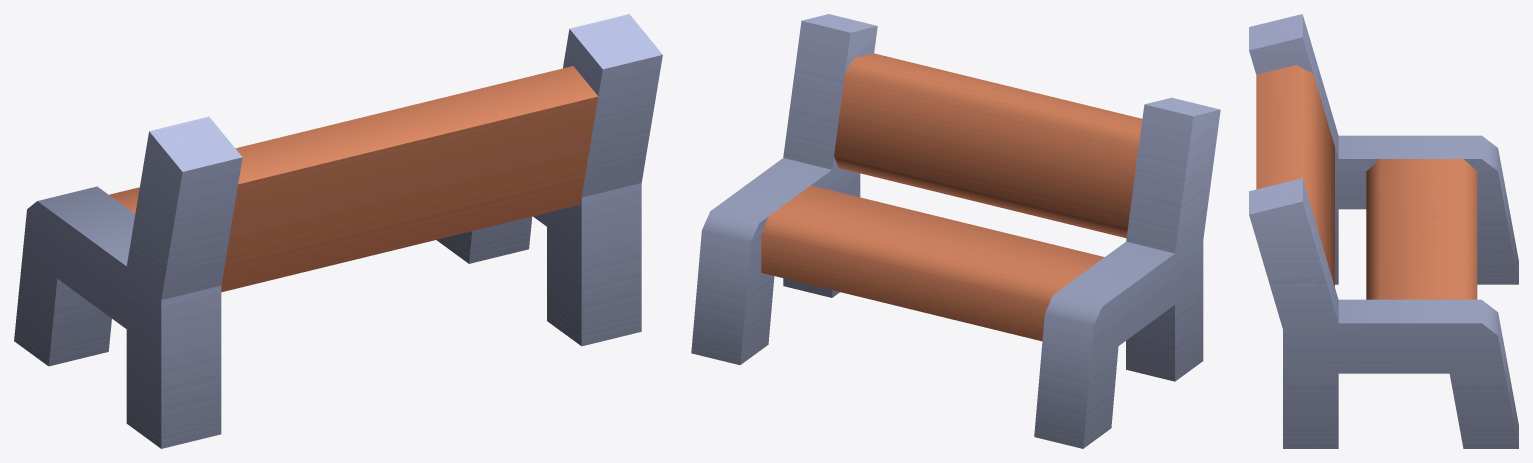
Rendered from bench.glb.
3 renders of one model, left to right at view 1: azimuth 30°, elevation 25°; view 2: azimuth 150°, elevation 25°; view 3: azimuth 270°, elevation 25°, orthographic. The views are drawn at different scales.
Visible parts, largest first — view 1: bench; view 2: bench; view 3: bench.
Boxes of the visible parts, bbox=[...] form: bench: bbox=[14, 14, 662, 448]; bench: bbox=[691, 14, 1220, 448]; bench: bbox=[1249, 14, 1518, 448].
Bounding box in the file's own units: 0.8 × 0.4915 × 0.4863.
Materials: 1 (1 with a texture image).
